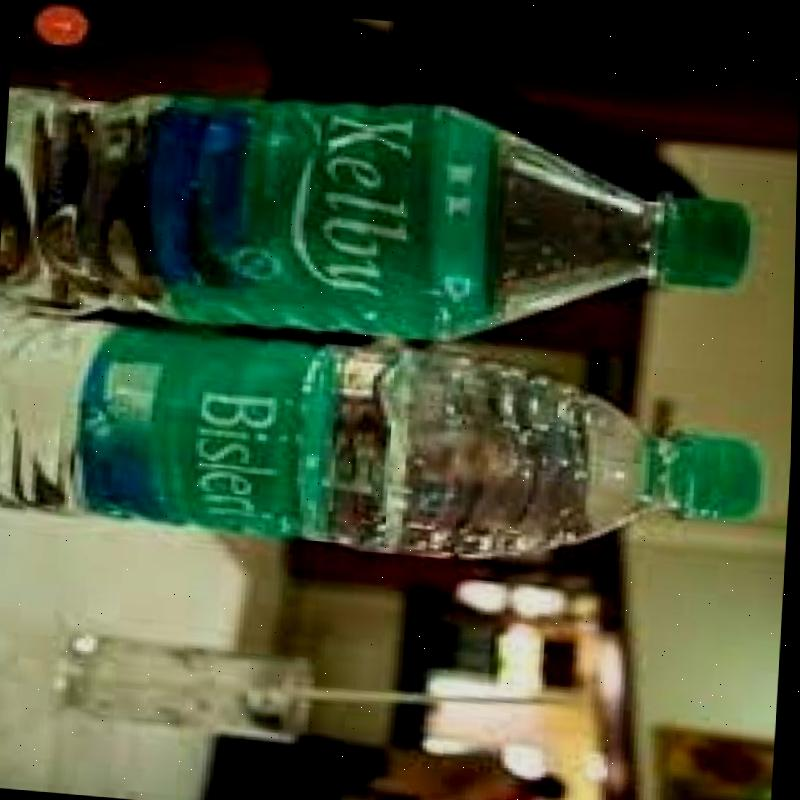botella: (0, 61, 753, 362), (0, 306, 772, 577)
